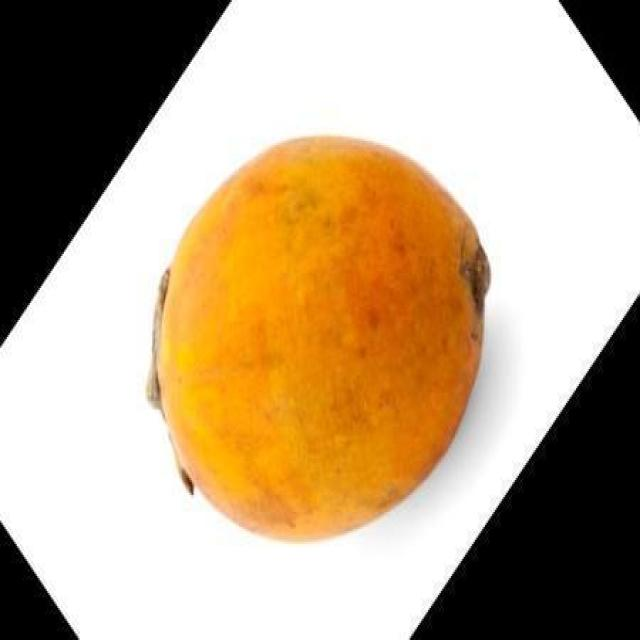good: (155, 134, 492, 546)
